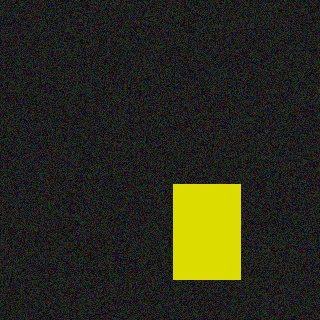yellow_barrel: (173, 184, 240, 279)
